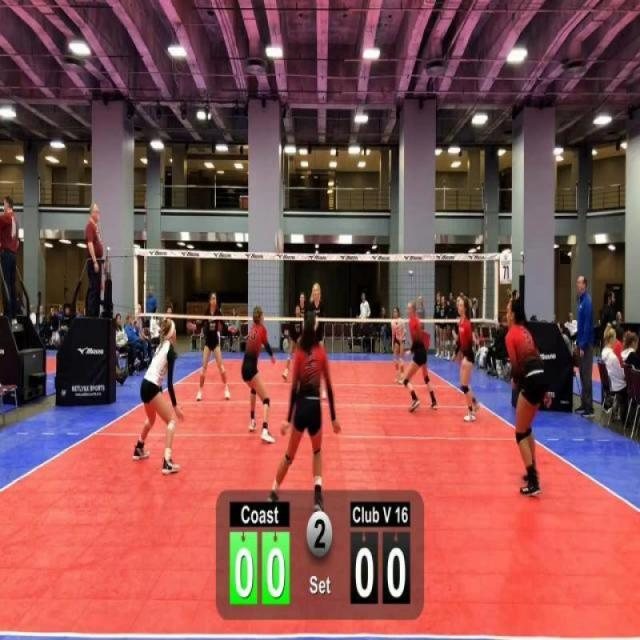volleyball: (274, 230, 284, 254)
